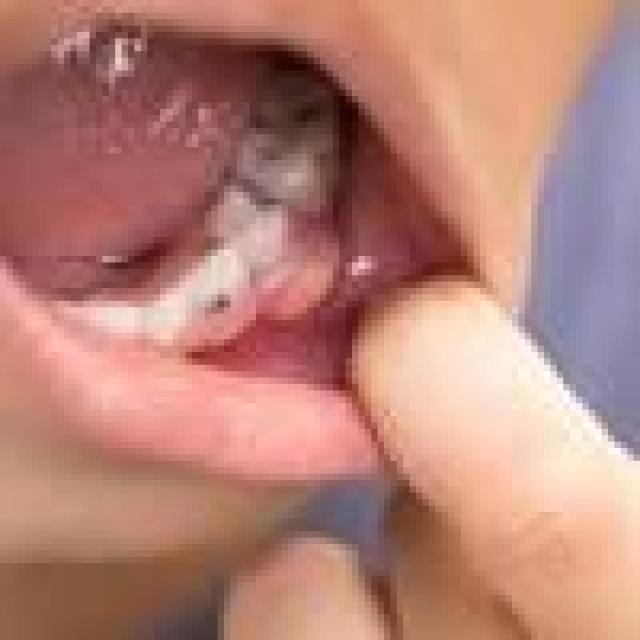abscess: (270, 247, 362, 322)
caries: (174, 287, 250, 323)
